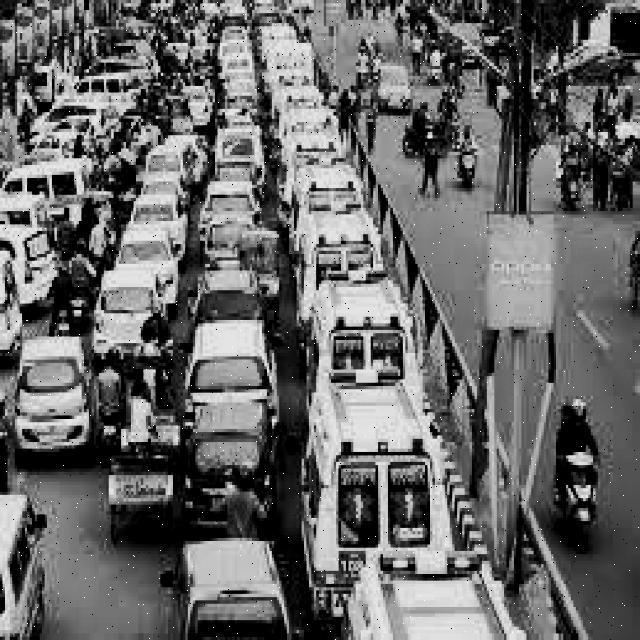Ambulance: (312, 401, 438, 572), (274, 31, 346, 203), (319, 274, 415, 392), (337, 411, 444, 513), (312, 212, 376, 266)
